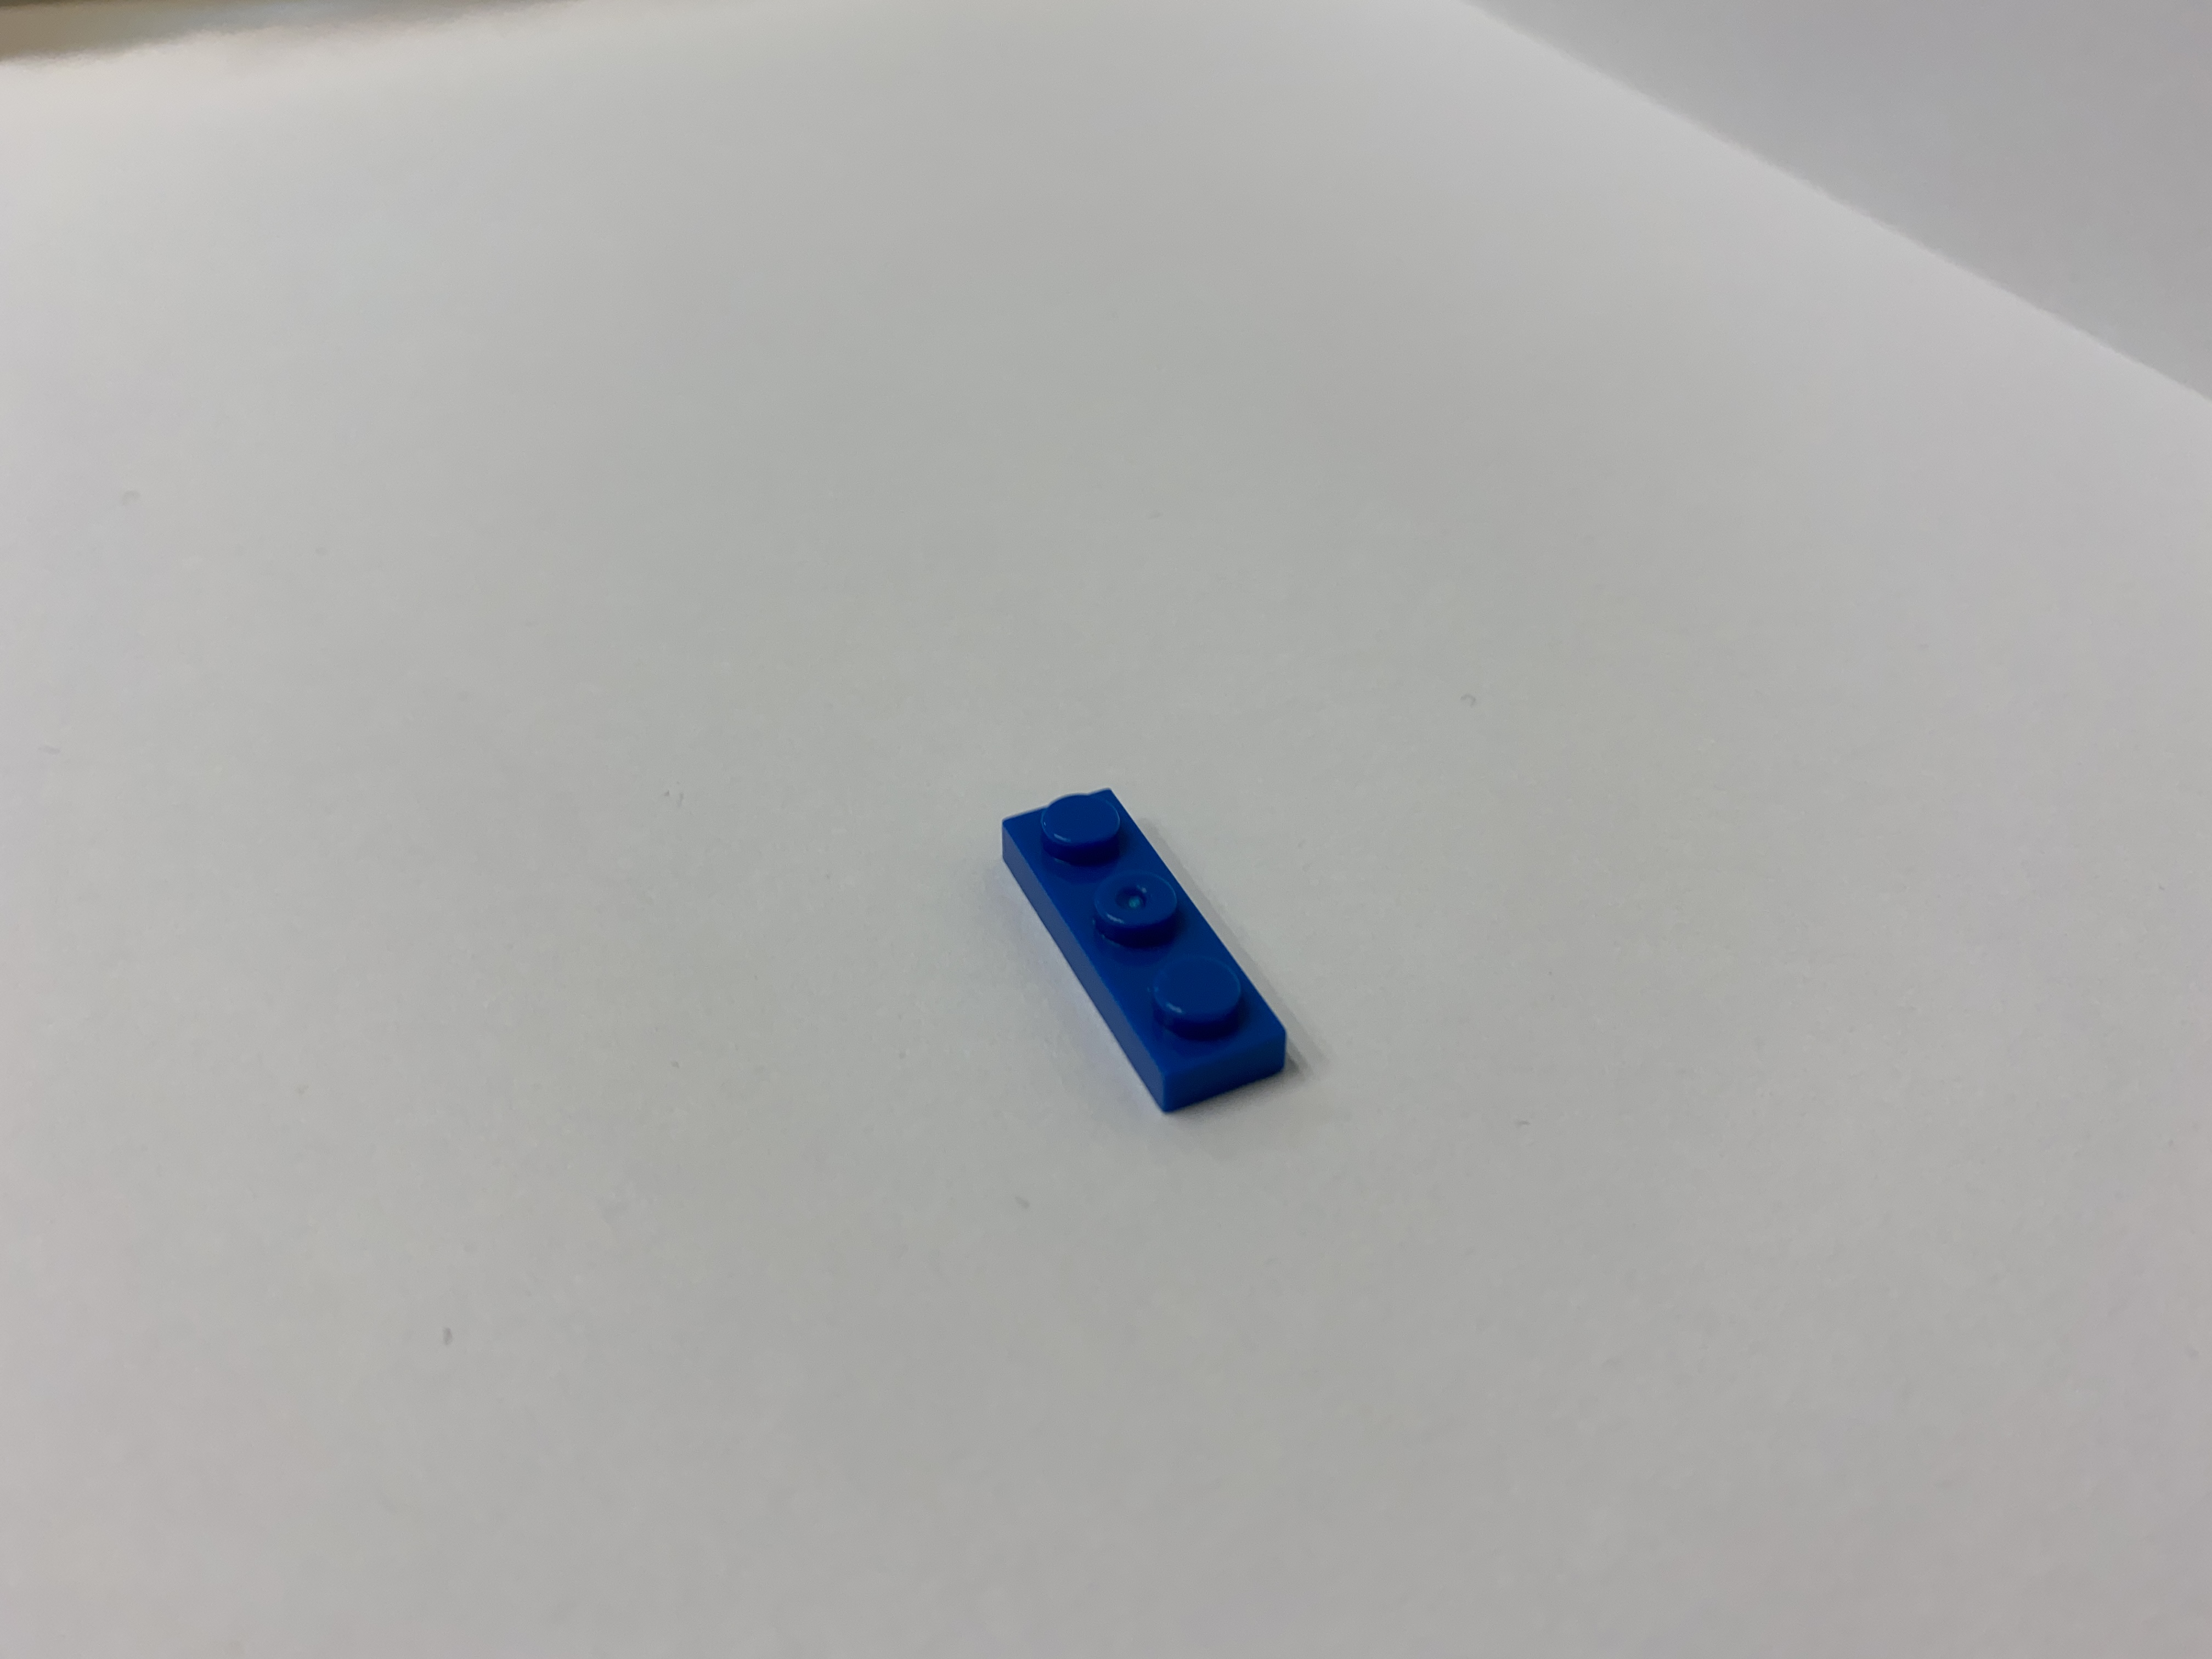car: (982, 770, 1329, 1178)
